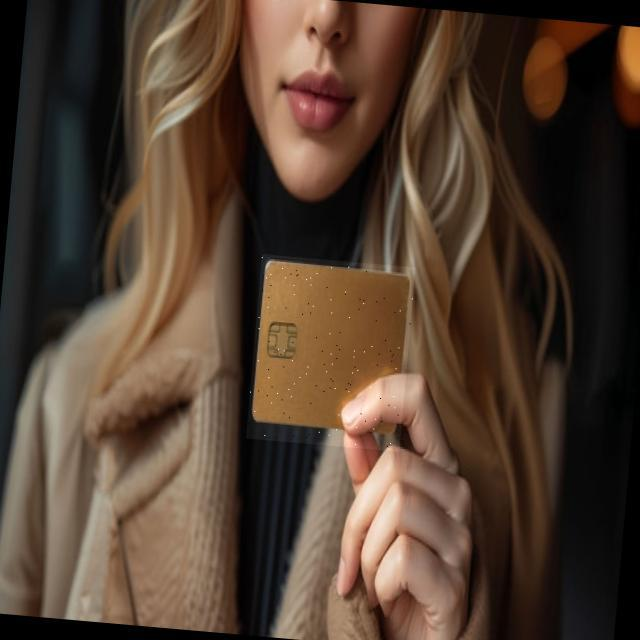payment_card: (249, 255, 412, 433)
